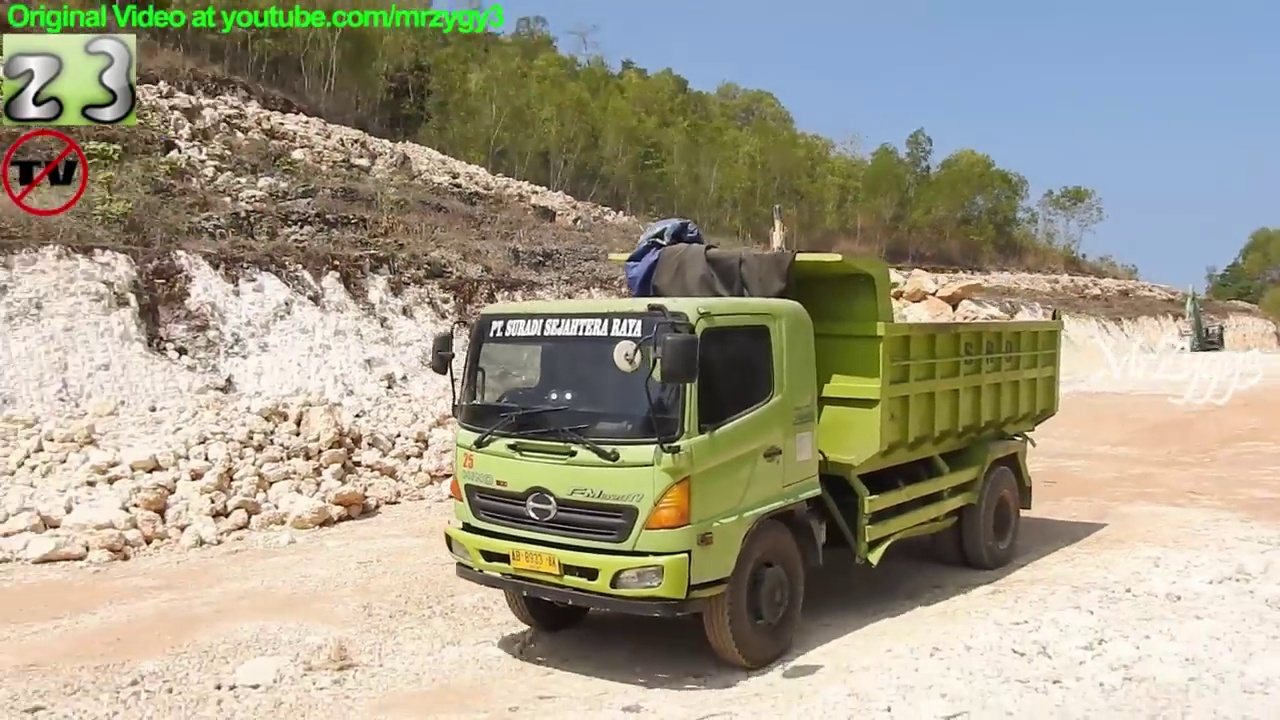excavator: (689, 200, 874, 417), (1172, 281, 1229, 362)
truck: (423, 244, 1072, 679)
